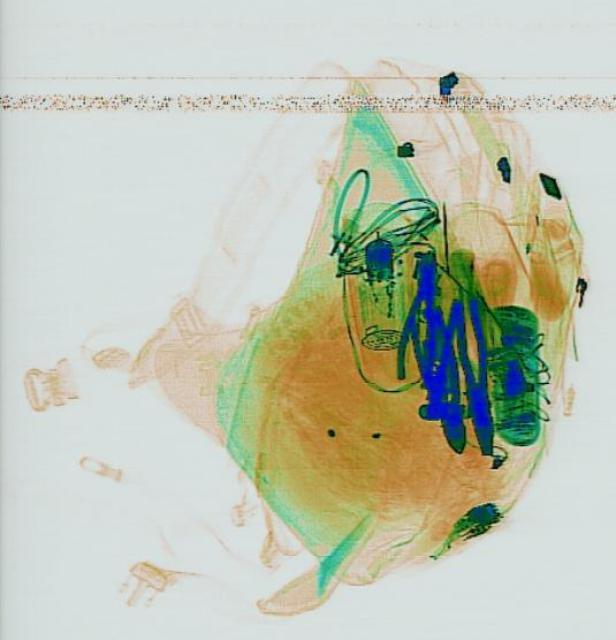Pliers: (403, 305, 474, 457), (449, 296, 500, 456), (393, 252, 445, 381)
